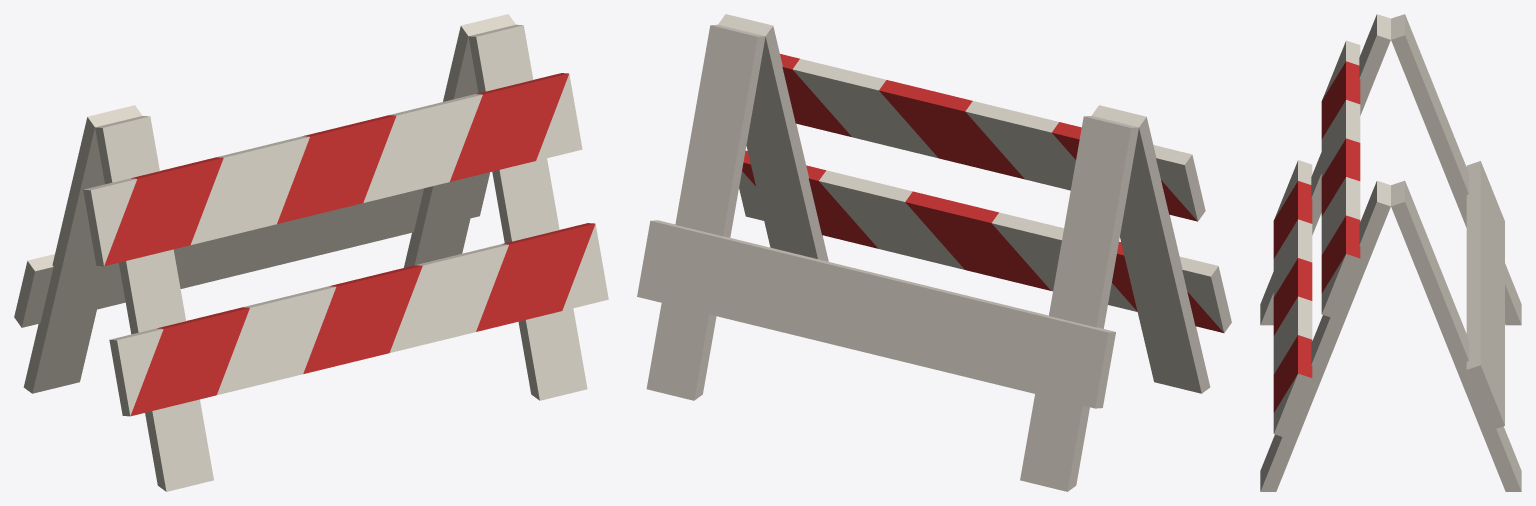
The model's file is Road_Work_Sign_1.fbx.
3 renders of one model, left to right at view 1: azimuth 30°, elevation 25°; view 2: azimuth 150°, elevation 25°; view 3: azimuth 270°, elevation 25°, orthographic. The views are drawn at different scales.
Visible parts, largest first — view 1: Road_Work_Sign_1; view 2: Road_Work_Sign_1; view 3: Road_Work_Sign_1.
Part boxes in pixels (left/top/right/bottom): Road_Work_Sign_1: left=14, top=14, right=608, bottom=491; Road_Work_Sign_1: left=637, top=14, right=1231, bottom=491; Road_Work_Sign_1: left=1260, top=14, right=1521, bottom=491.
Bounding box in the file's own units: 2.27 × 1.44 × 1.17.
Materials: 1 (1 with a texture image).
